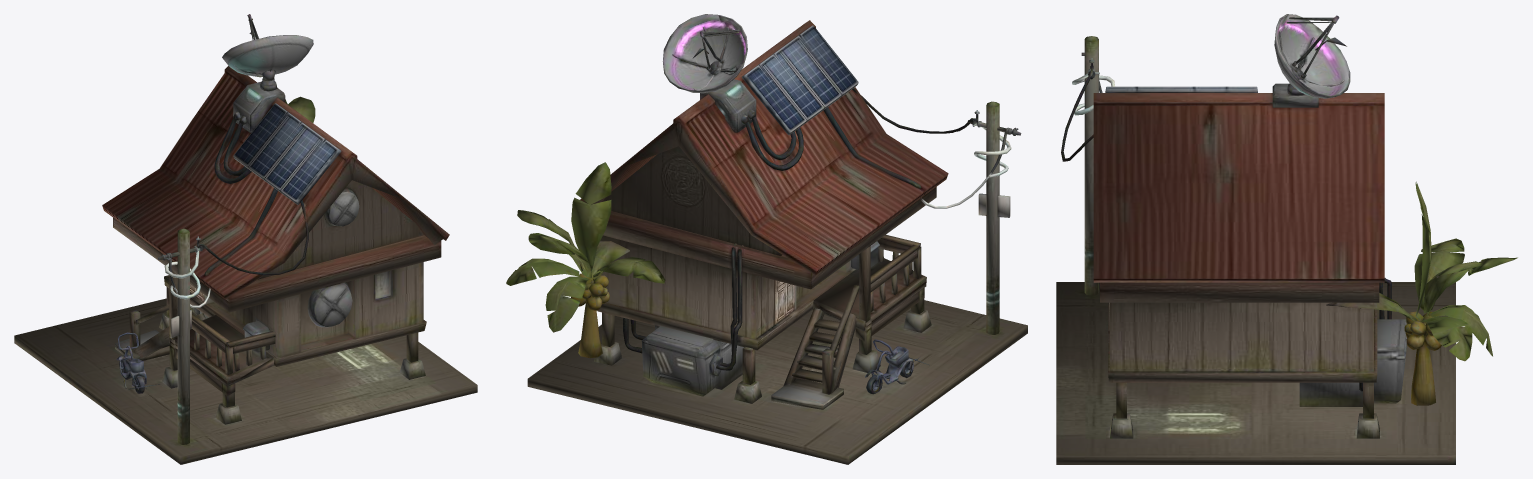
The model's file is malay_kampung_house.glb.
3 views of the same model, side by side, from view 1: azimuth 30°, elevation 25°; view 2: azimuth 150°, elevation 25°; view 3: azimuth 270°, elevation 25° (orthographic). The views are drawn at different scales.
Visible parts, largest first — view 1: Body; view 2: Body, Glow; view 3: Body.
Part boxes in pixels (x1,y1,x2,y2): Body: (14,14,477,464); Body: (506,14,1027,464); Glow: (673,15,745,65); Body: (1056,14,1517,464).
Bounding box in the file's own units: 10 × 9.51 × 10.37.
2 materials, 2 textured.
